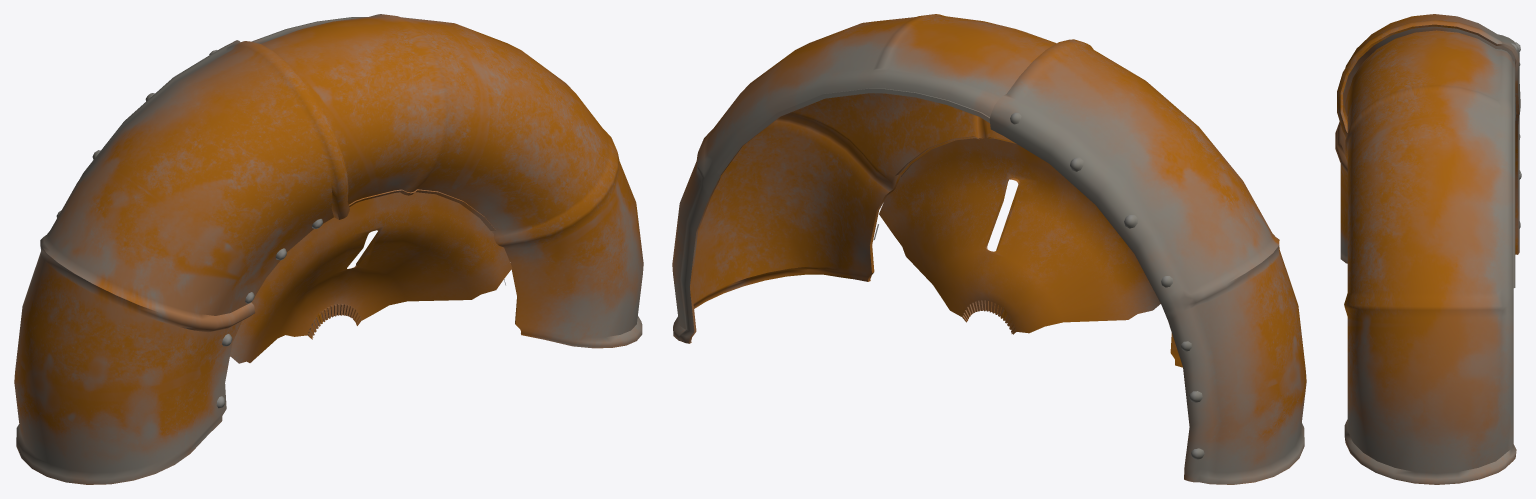
Rendered from wheel_cover_l_B.dae.
3 views of the same model, side by side, from view 1: azimuth 30°, elevation 25°; view 2: azimuth 150°, elevation 25°; view 3: azimuth 270°, elevation 25° (orthographic). The views are drawn at different scales.
Visible parts, largest first — view 1: ApolloRoverRig__1.001_2; view 2: ApolloRoverRig__1.001_2; view 3: ApolloRoverRig__1.001_2.
Boxes of the visible parts, bbox=[...] form: ApolloRoverRig__1.001_2: bbox=[14, 14, 643, 484]; ApolloRoverRig__1.001_2: bbox=[672, 14, 1306, 484]; ApolloRoverRig__1.001_2: bbox=[1335, 14, 1521, 484].
Size of the model in its own units: 0.8381 by 0.2534 by 0.4796.
Materials: 1 (1 with a texture image).
